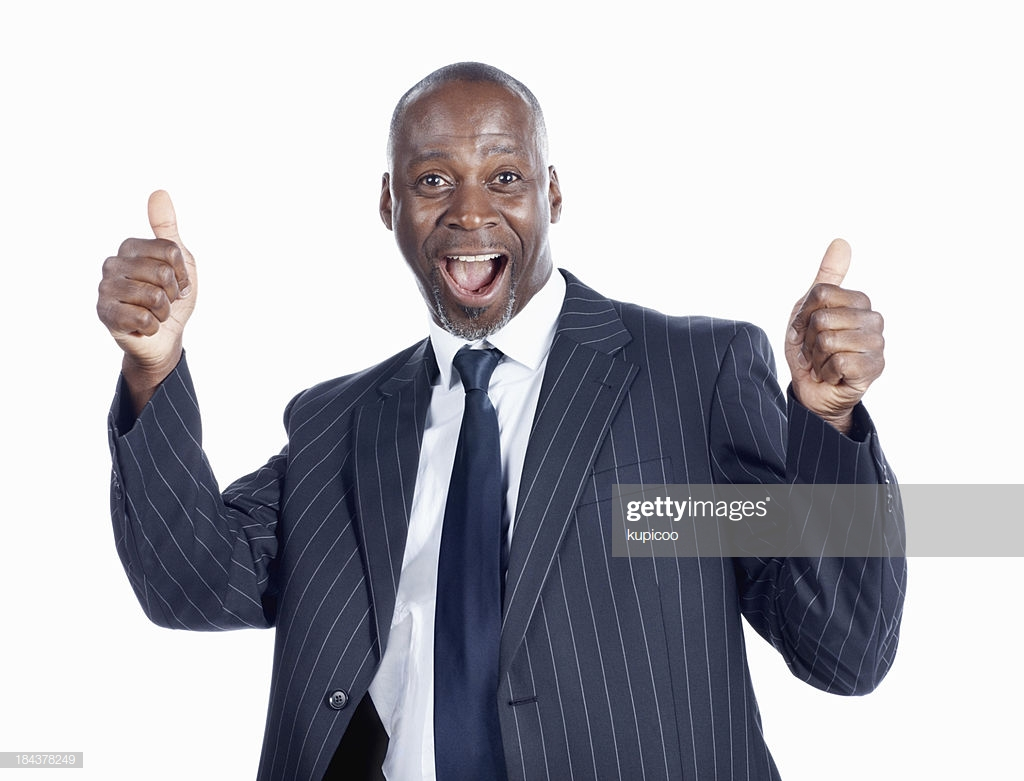thumbsup: (785, 237, 887, 389), (96, 188, 192, 340)
